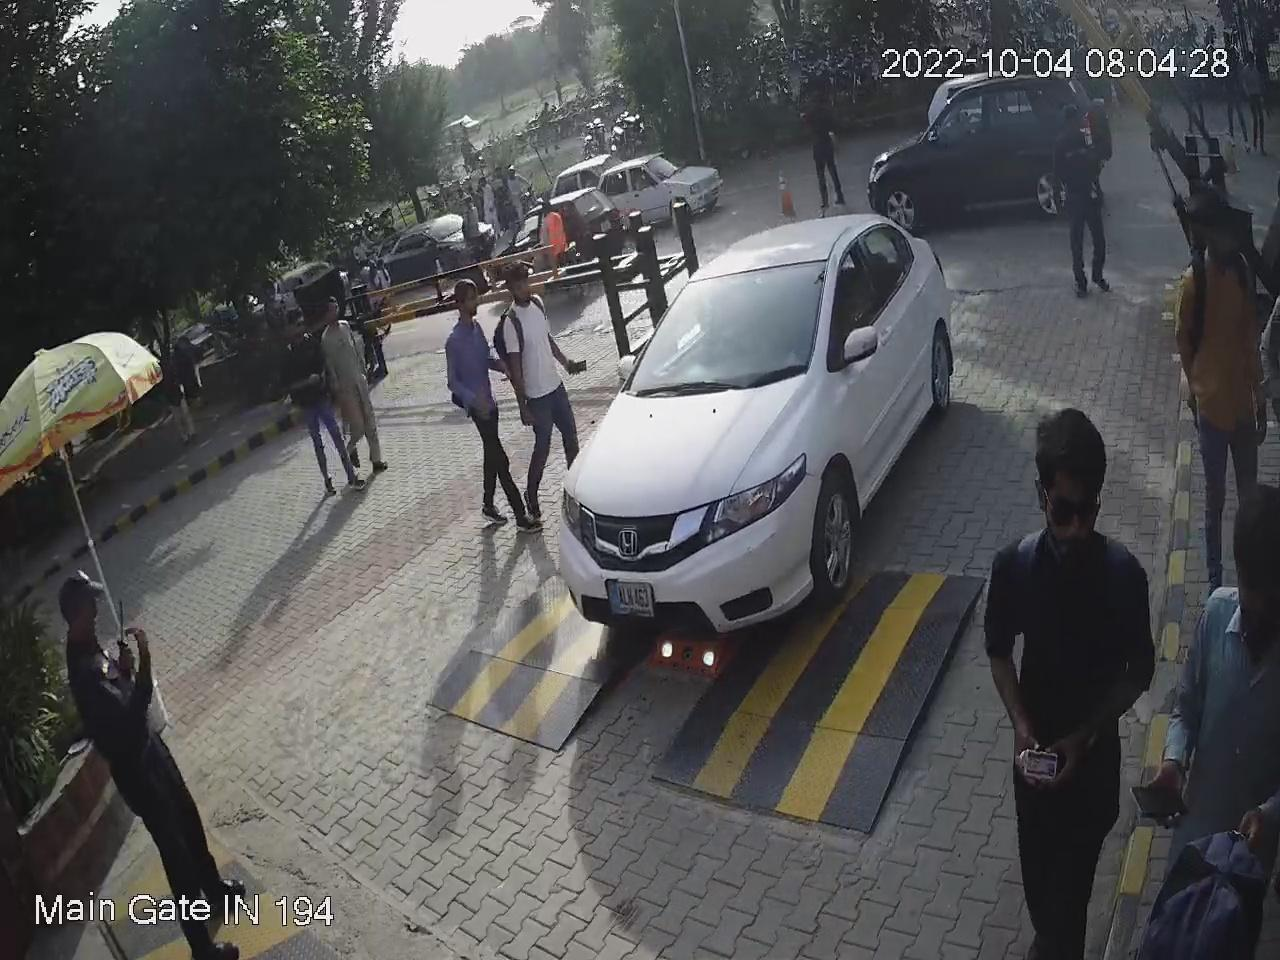windshield: (616, 255, 841, 395)
